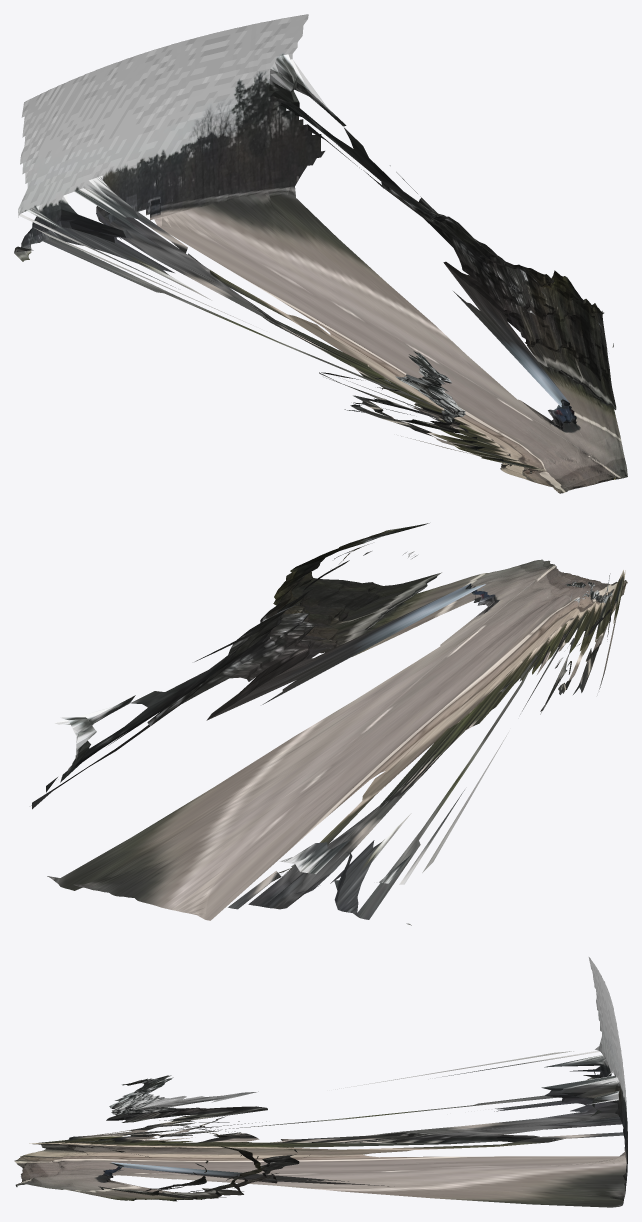
3 views of the same model, one above another, from view 1: azimuth 30°, elevation 25°; view 2: azimuth 150°, elevation 25°; view 3: azimuth 270°, elevation 25° (orthographic). The views are drawn at different scales.
Parts seen in each view (by area): view 1: defaultobject; view 2: defaultobject; view 3: defaultobject.
Boxes of the visible parts, left/top/right/bottom form: defaultobject: left=14, top=14, right=627, bottom=493; defaultobject: left=31, top=523, right=627, bottom=925; defaultobject: left=14, top=957, right=627, bottom=1207.
Size of the model in its own units: 23.1 by 11.78 by 44.8.
1 material, 1 textured.
